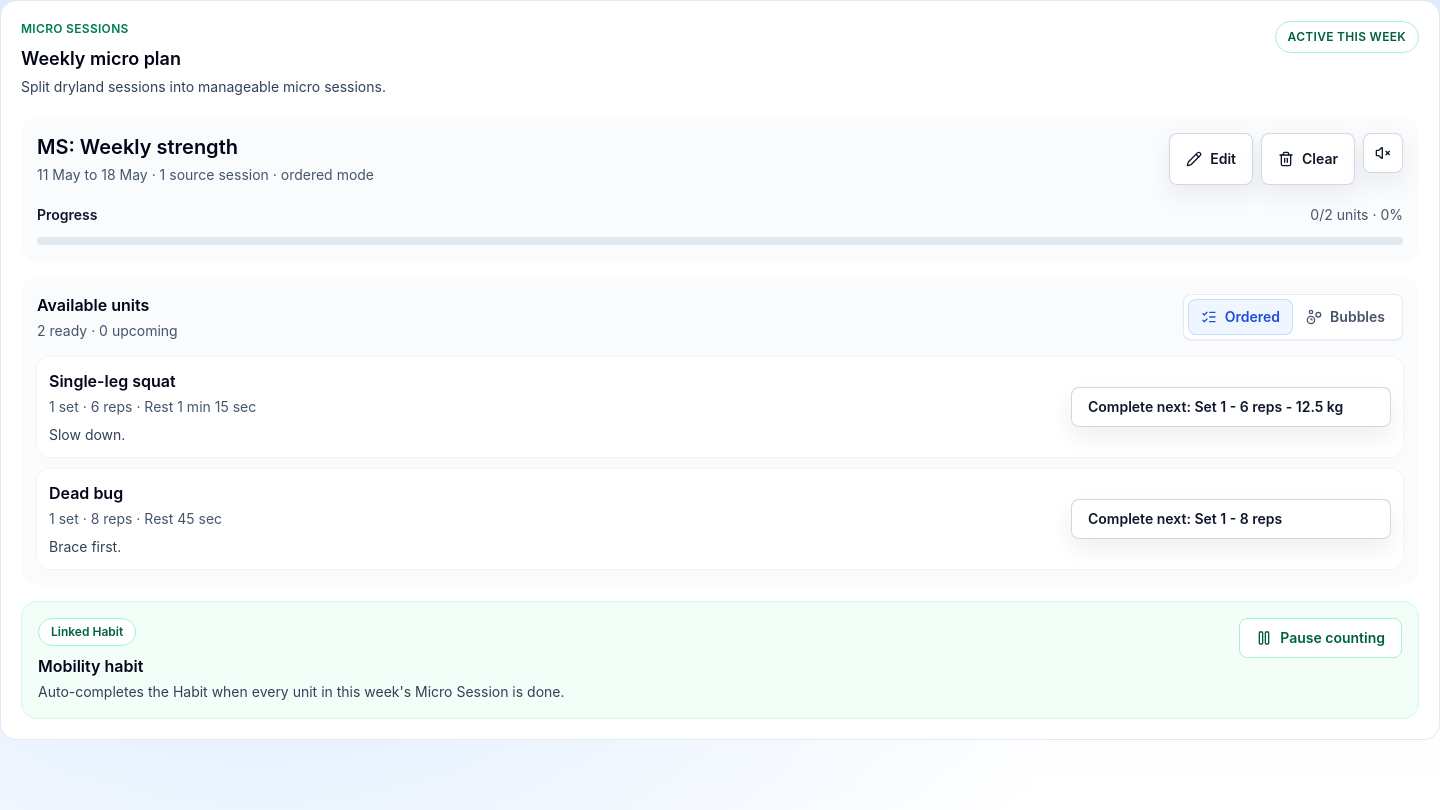
Test: DrylandMicroPlanPanel › pauses Habit counting without disabling micro session bubbles
The image size is (1440, 810).
Click the button with test id "dryland-micro-pause-habit-link". click: (1321, 638)
box: [1239,618,1402,658]
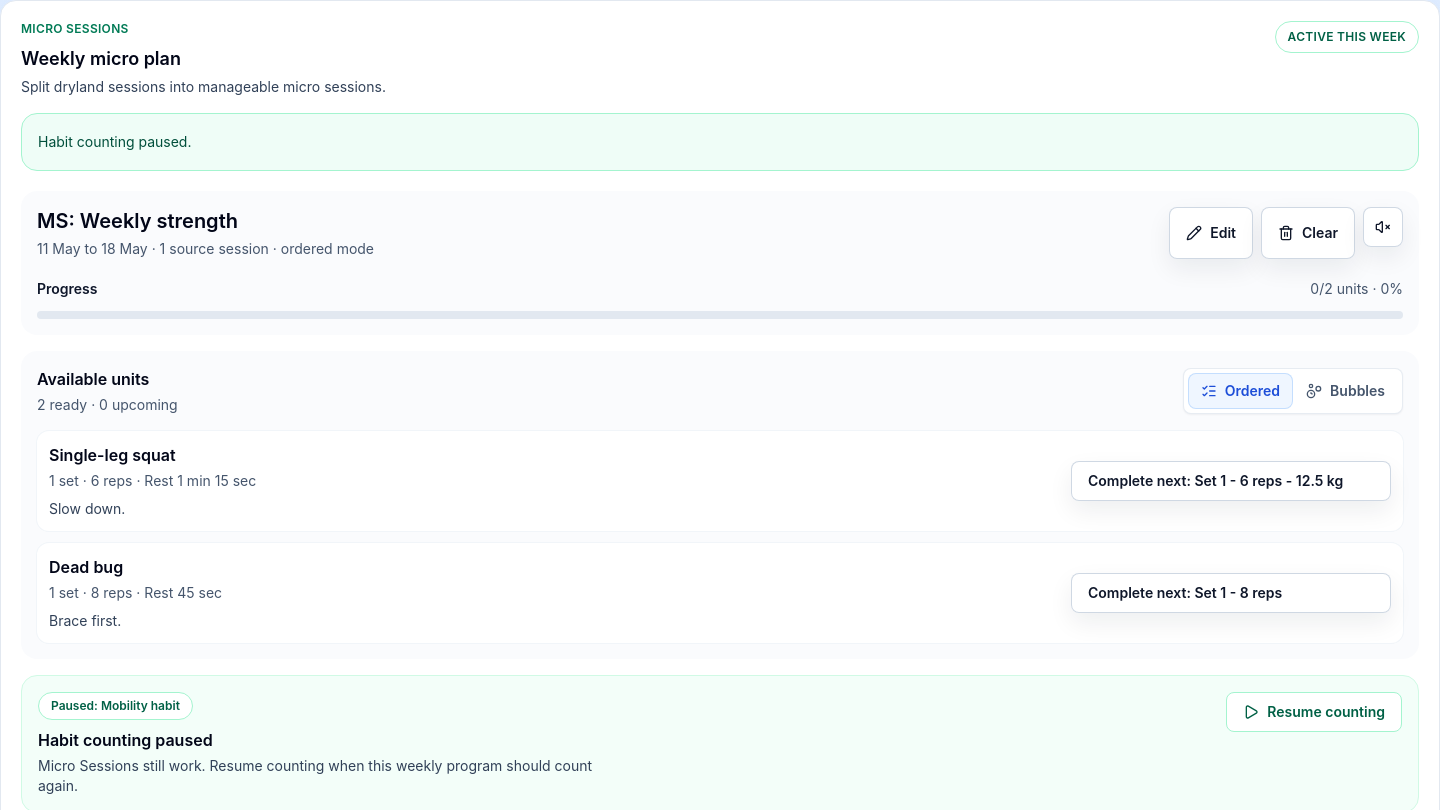
Check: the button with test id "dryland-micro-complete-0" is enabled, box [1071,461,1391,501]
Check: the heading "Habit counting paused" is shown, box [38,730,213,750]
